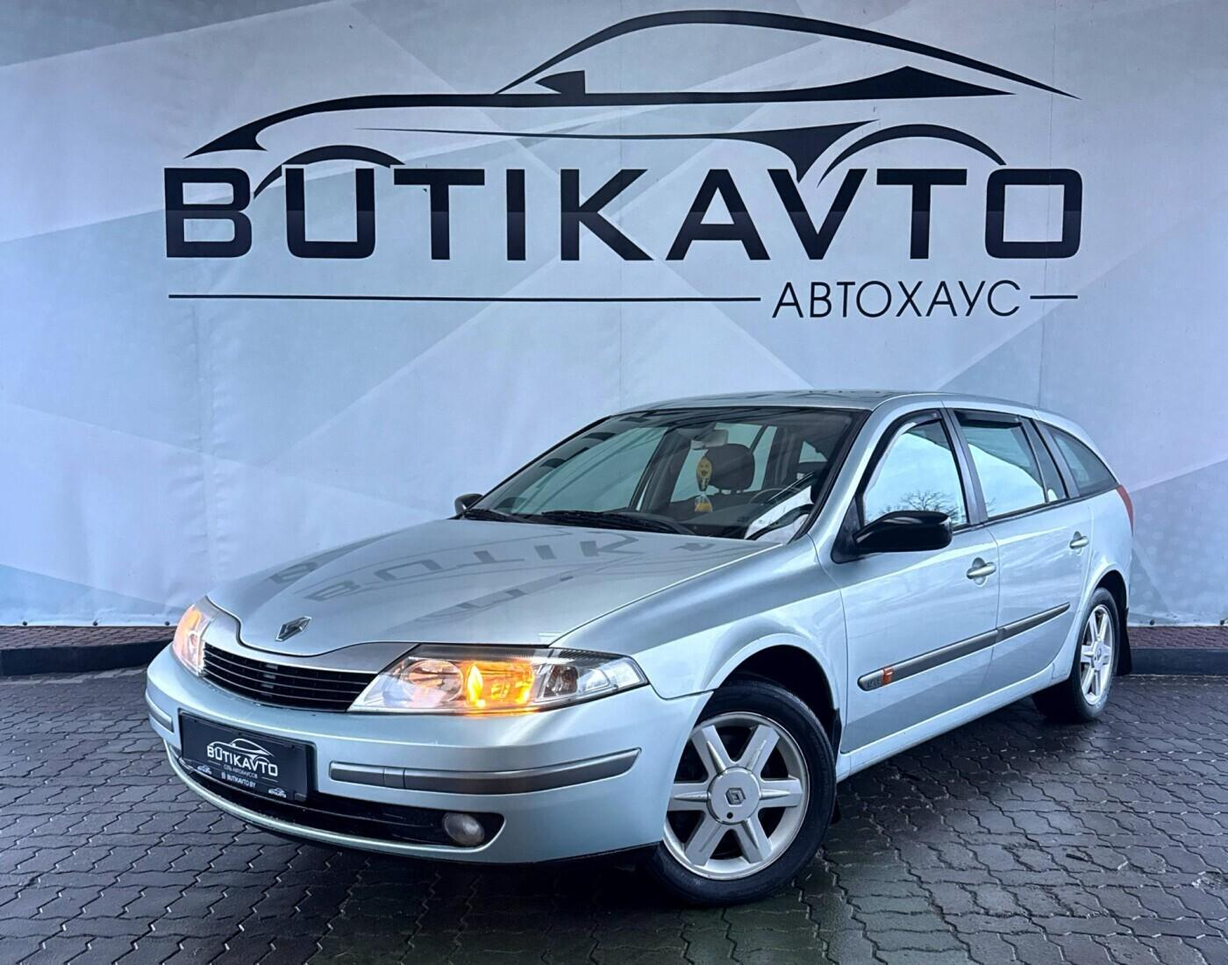Laguna_2001-2005: (146, 391, 1133, 905)
